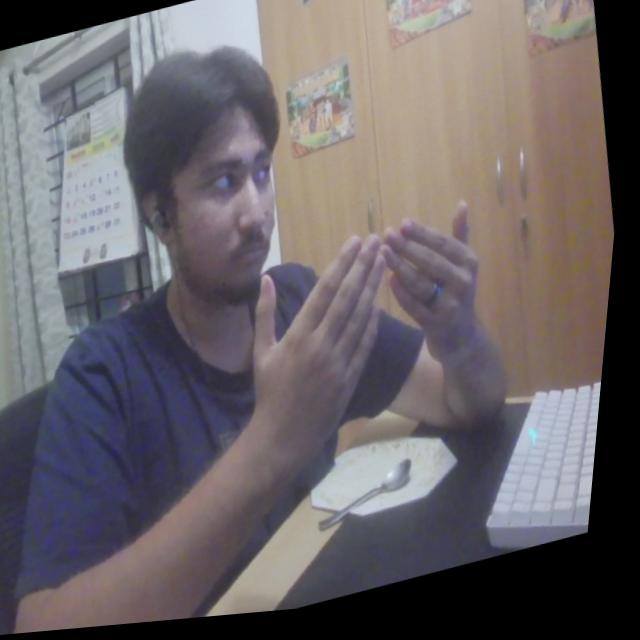thankyou: (227, 197, 537, 492)
